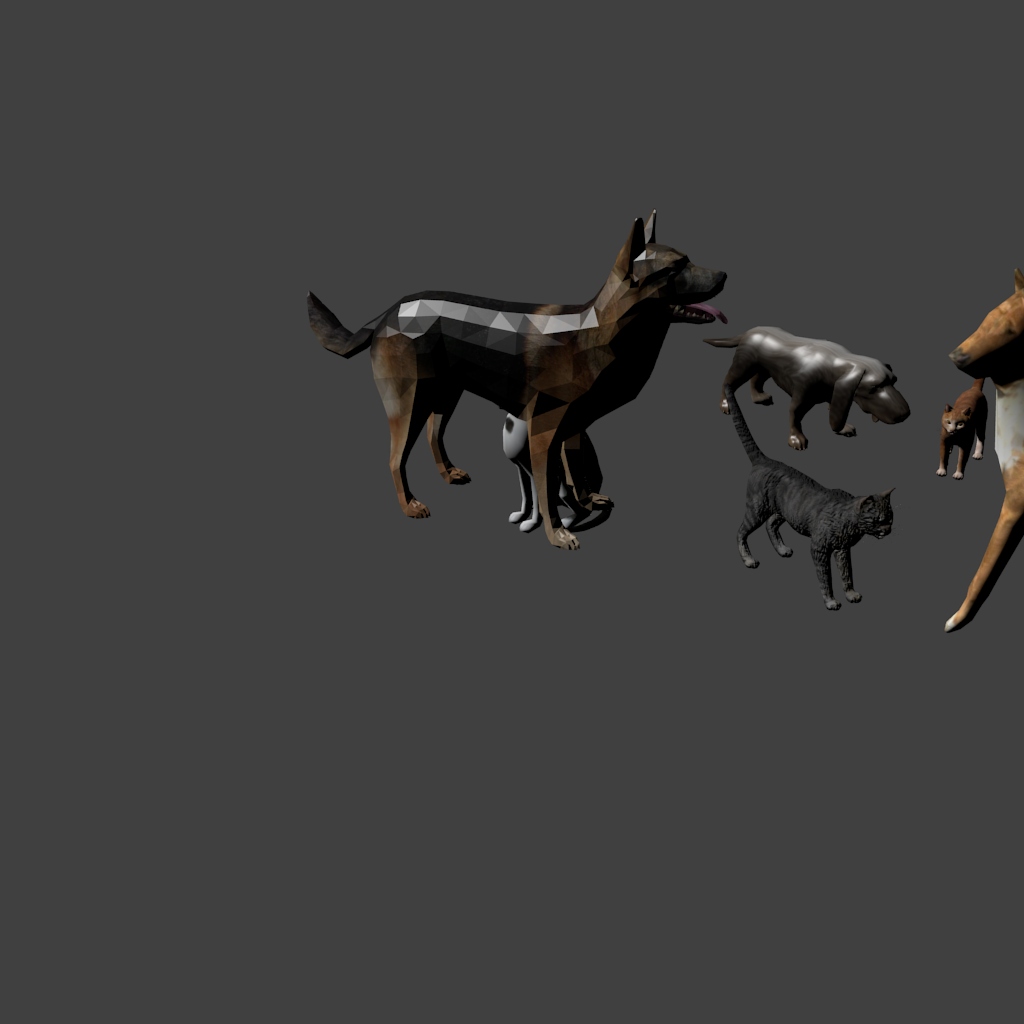Dog: (307, 209, 421, 342)
